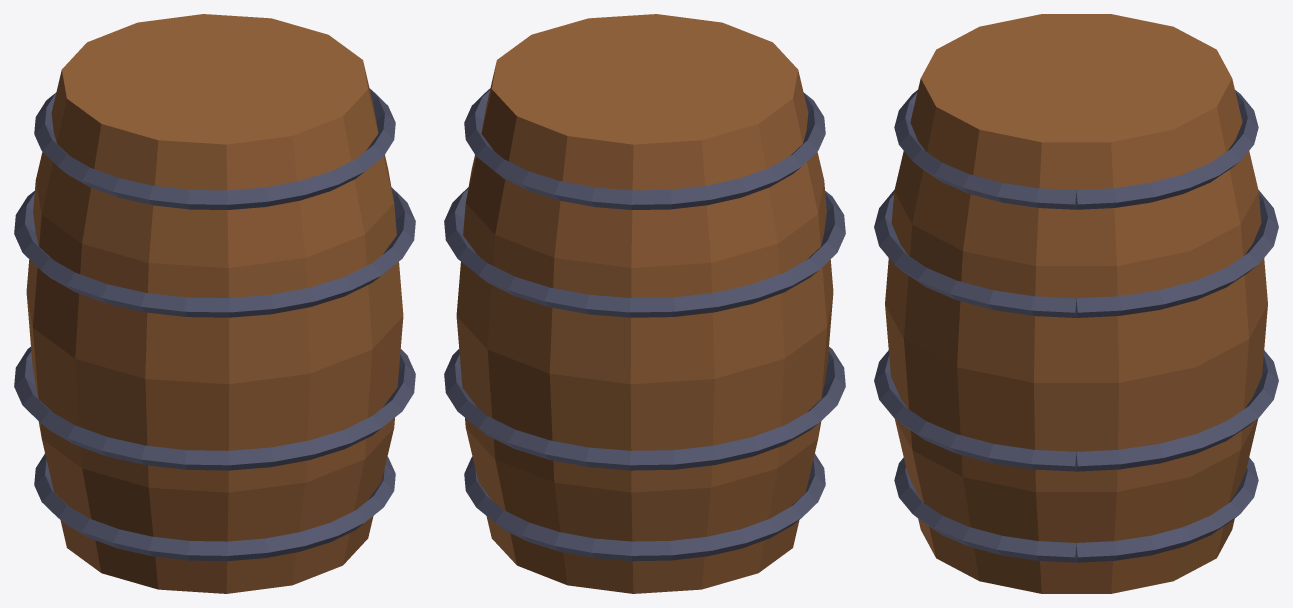
Rendered from myw_barrel.glb.
3 views of the same model, side by side, from view 1: azimuth 30°, elevation 25°; view 2: azimuth 150°, elevation 25°; view 3: azimuth 270°, elevation 25° (orthographic).
Visible parts, largest first — view 1: Barrel; view 2: Barrel; view 3: Barrel.
Part boxes in pixels (left/top/right/bottom): Barrel: left=14, top=14, right=415, bottom=593; Barrel: left=444, top=14, right=845, bottom=593; Barrel: left=874, top=14, right=1278, bottom=593.
Size of the model in its own units: 2.6 by 3.2 by 2.6.
